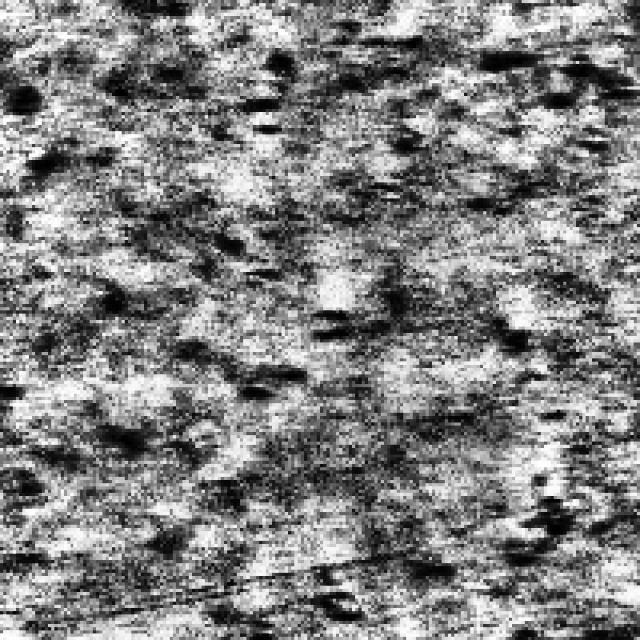Crazing: (70, 269, 576, 605), (141, 38, 637, 144), (0, 374, 240, 509)
